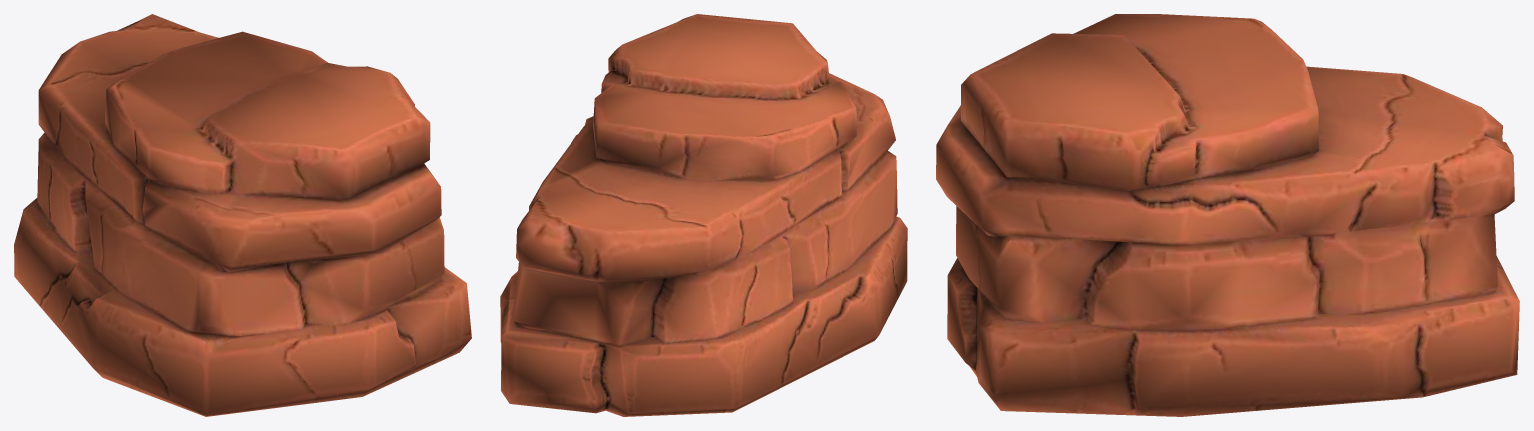
File: gorge-cliff-6.glb
The picture shows the model from 3 angles, left to right: view 1: azimuth 30°, elevation 25°; view 2: azimuth 150°, elevation 25°; view 3: azimuth 270°, elevation 25°; orthographic projection. The views are drawn at different scales.
Visible parts, largest first — view 1: GorgeCliff6; view 2: GorgeCliff6; view 3: GorgeCliff6.
Part boxes in pixels (box(x1,y1,x2,y2)): GorgeCliff6: box(14, 14, 471, 416); GorgeCliff6: box(500, 14, 907, 416); GorgeCliff6: box(936, 14, 1519, 416).
Bounding box in the file's own units: 2.83 × 2.1 × 4.1.
Materials: 1 (1 with a texture image).
